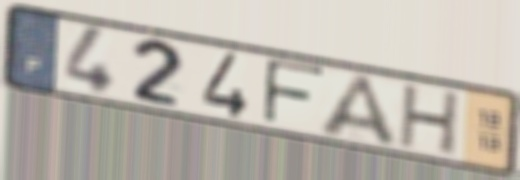2: (128, 37, 188, 112)
4: (62, 22, 119, 99), (200, 51, 251, 120)
A: (315, 71, 403, 151)
F: (260, 55, 329, 129)
H: (395, 82, 464, 159)
